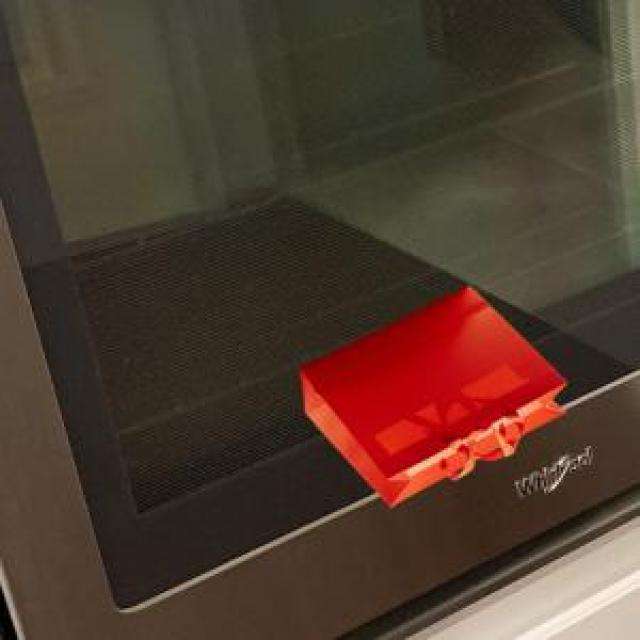Paper -Biodegradable-: (299, 281, 566, 508)
